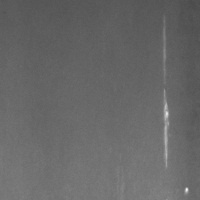scratches: (156, 12, 174, 172), (182, 184, 192, 197)
